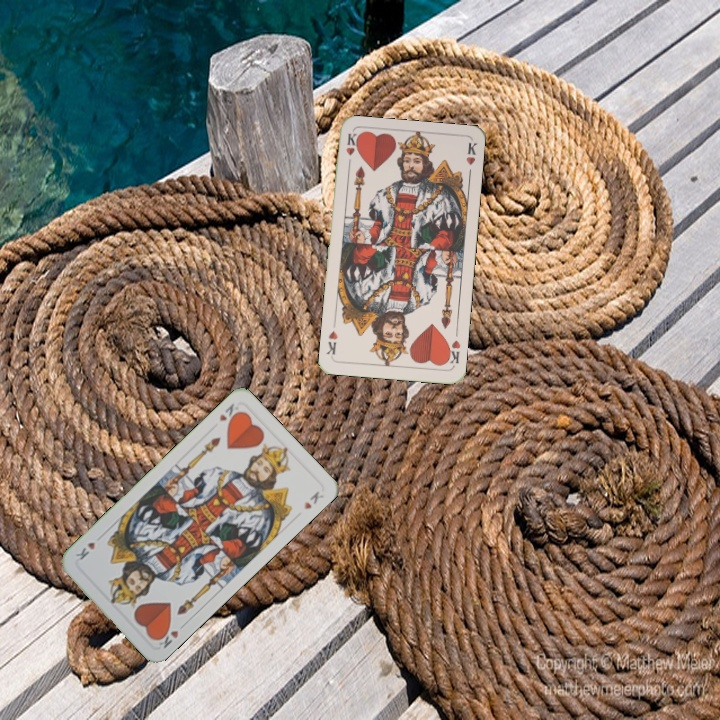HK: (152, 621, 181, 651), (215, 399, 243, 427), (342, 130, 360, 170), (442, 336, 463, 366)
